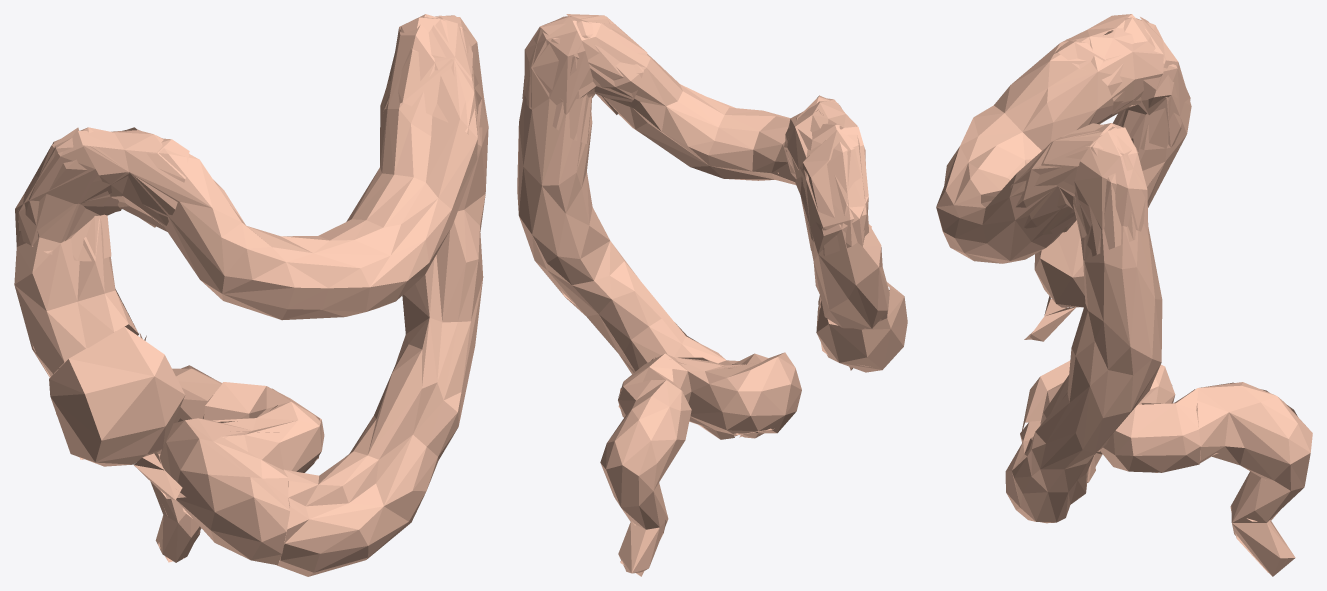
The model's file is SBU_F_Intestine_Large_0.1.glb.
3 renders of one model, left to right at view 1: azimuth 30°, elevation 25°; view 2: azimuth 150°, elevation 25°; view 3: azimuth 270°, elevation 25°, orthographic. The views are drawn at different scales.
Visible parts, largest first — view 1: VH_F_transverse_colon, VH_F_descending_colon, VH_F_sigmoid_colon, VH_F_ascending_colon, VH_F_caecum, VH_F_hepatic_flexure_of_colon, VH_F_splenic_flexure_of_colon, VH_F_rectum, VH_F_vermiform_appendix; view 2: VH_F_descending_colon, VH_F_transverse_colon, VH_F_rectum, VH_F_ascending_colon, VH_F_sigmoid_colon, VH_F_splenic_flexure_of_colon, VH_F_hepatic_flexure_of_colon, VH_F_caecum; view 3: VH_F_descending_colon, VH_F_transverse_colon, VH_F_rectum, VH_F_sigmoid_colon, VH_F_splenic_flexure_of_colon, VH_F_hepatic_flexure_of_colon, VH_F_ascending_colon, VH_F_caecum, VH_F_vermiform_appendix.
Part boxes in pixels (x1,y1,x2,y2): VH_F_transverse_colon: (78, 14, 477, 320); VH_F_descending_colon: (276, 15, 488, 576); VH_F_sigmoid_colon: (159, 382, 324, 565); VH_F_ascending_colon: (14, 127, 138, 377); VH_F_caecum: (49, 326, 185, 466); VH_F_hepatic_flexure_of_colon: (18, 127, 189, 261); VH_F_splenic_flexure_of_colon: (383, 15, 486, 139); VH_F_rectum: (150, 365, 221, 562); VH_F_vermiform_appendix: (134, 453, 185, 500); VH_F_descending_colon: (517, 16, 738, 439); VH_F_transverse_colon: (566, 14, 857, 184); VH_F_rectum: (600, 380, 691, 576); VH_F_ascending_colon: (795, 127, 889, 328); VH_F_sigmoid_colon: (618, 352, 801, 438); VH_F_splenic_flexure_of_colon: (522, 16, 647, 143); VH_F_hepatic_flexure_of_colon: (785, 95, 871, 256); VH_F_caecum: (816, 282, 907, 372); VH_F_descending_colon: (1005, 127, 1162, 523); VH_F_transverse_colon: (936, 14, 1163, 263); VH_F_rectum: (1196, 382, 1312, 576); VH_F_sigmoid_colon: (1022, 360, 1200, 472); VH_F_splenic_flexure_of_colon: (1010, 123, 1147, 260); VH_F_hepatic_flexure_of_colon: (1050, 17, 1190, 149); VH_F_ascending_colon: (1113, 17, 1191, 207); VH_F_caecum: (1034, 220, 1085, 307); VH_F_vermiform_appendix: (1024, 296, 1076, 341).
Size of the model in its own units: 0.2453 by 0.2968 by 0.1953.
